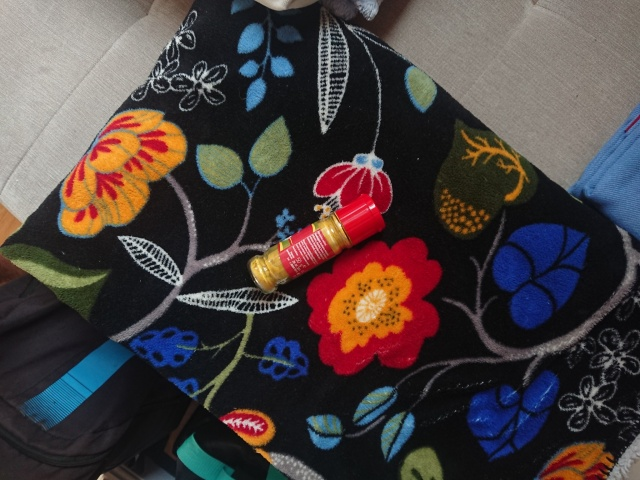Kotanyi Curry Spices Mix 70g: (245, 191, 387, 297)
